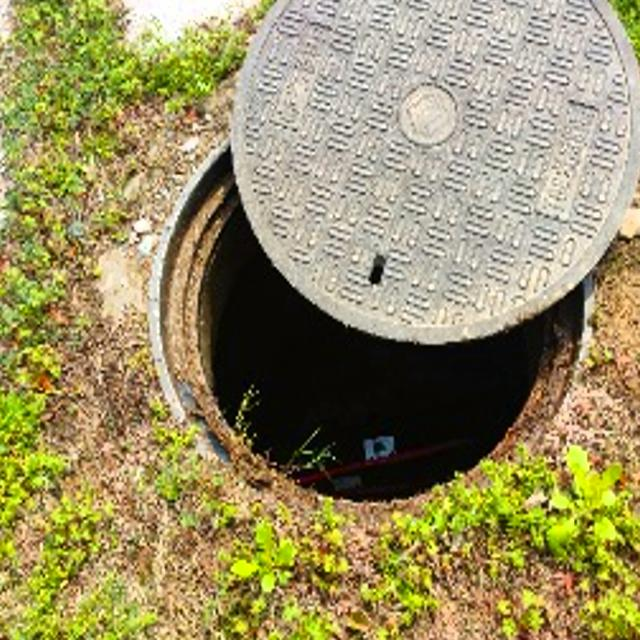uncovered: (150, 0, 640, 517)
